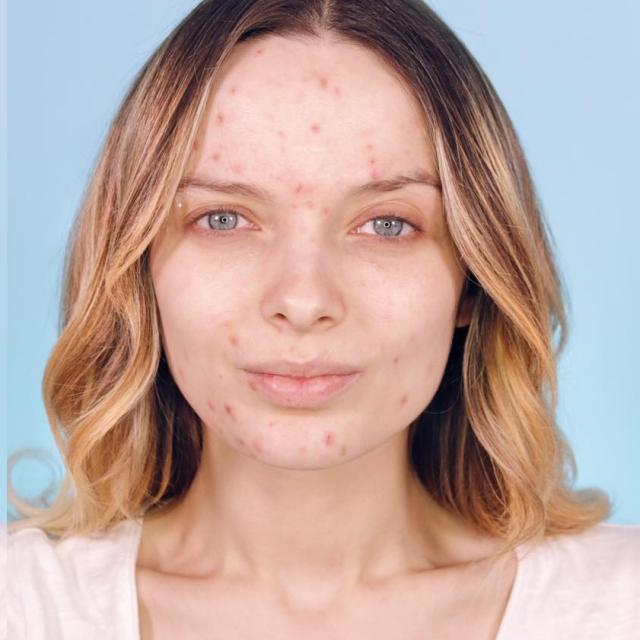Acne: (200, 52, 421, 200), (204, 389, 402, 467)
